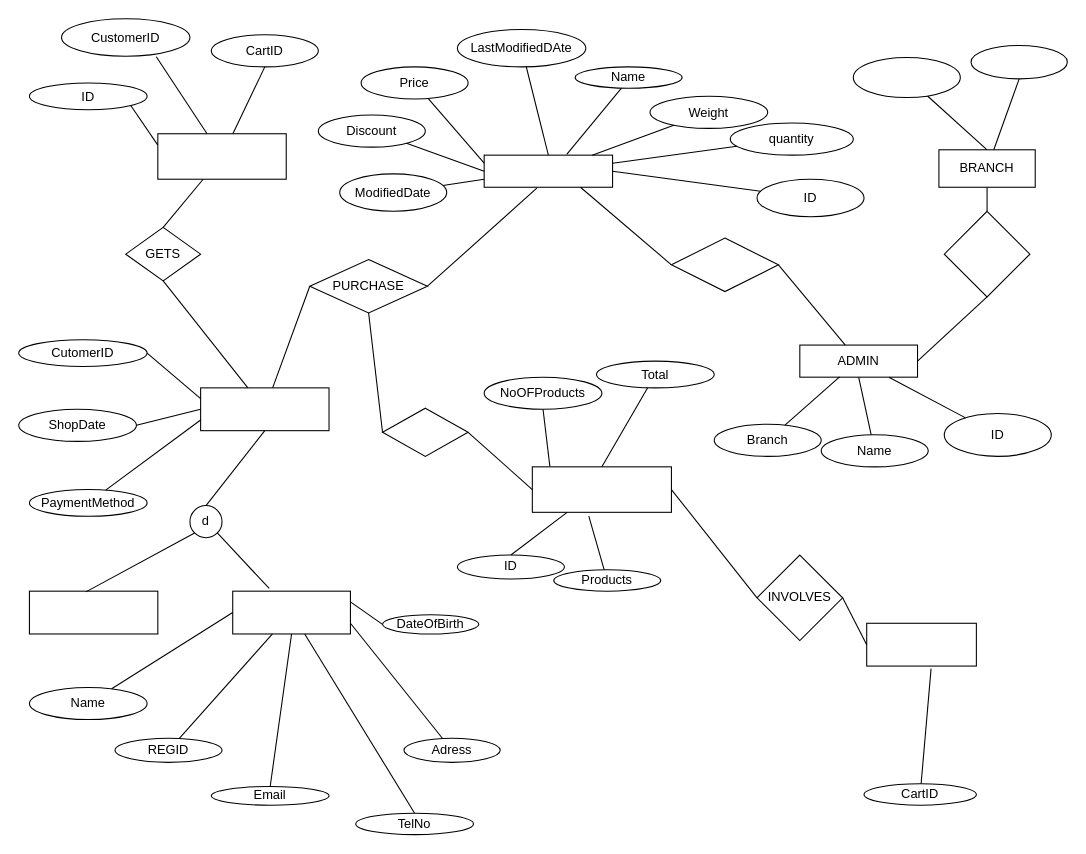
This 1086x854 diagram has some shape labels left out. Each missing label, with the box of its shape:
BrachName: (970, 44, 1067, 79)
BranchID: (852, 56, 960, 98)
CART: (866, 622, 976, 666)
CARTTRANSACTION: (531, 466, 671, 512)
CUSTOMER: (200, 387, 329, 431)
HAS: (381, 407, 468, 456)
INVOICE: (157, 133, 286, 179)
MAINTAIN: (670, 237, 778, 292)
NONREGISTERED: (28, 590, 158, 634)
PRODUCT: (483, 154, 613, 187)
REGISTERED: (232, 590, 350, 634)
workfor: (943, 210, 1030, 297)
